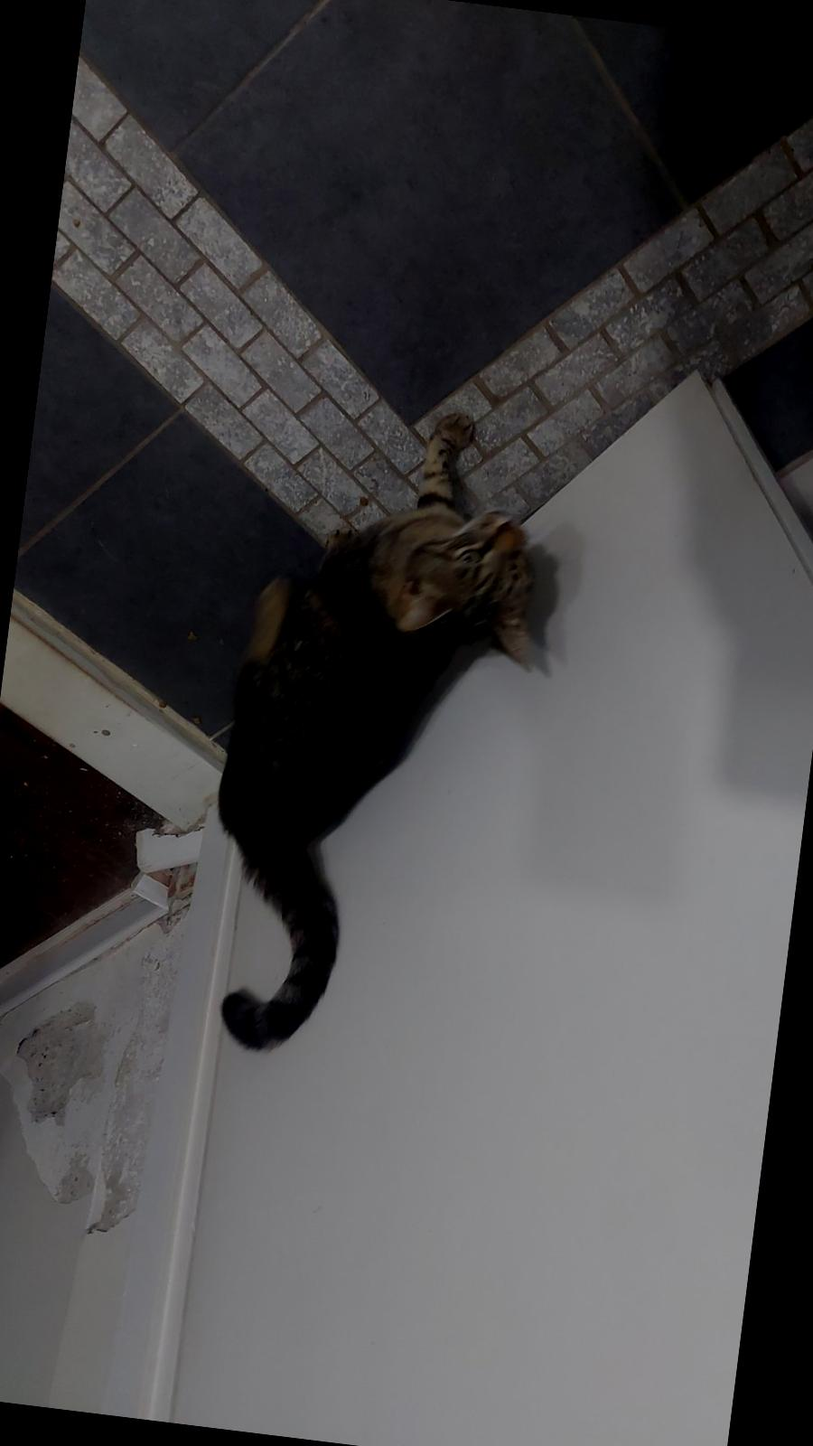macka: (182, 389, 573, 1082)
